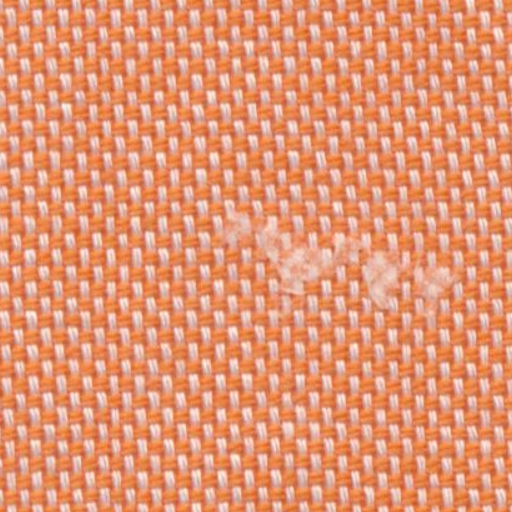DuanSha: (204, 198, 468, 332)
